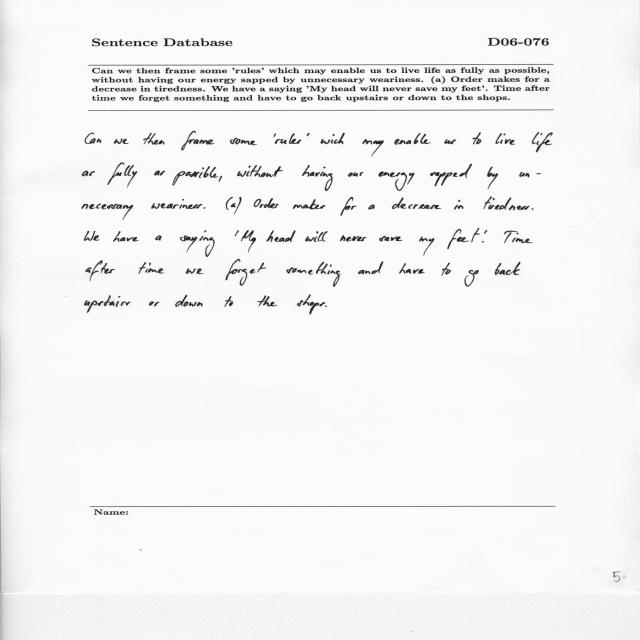word: (286, 262, 341, 287), (226, 259, 266, 286), (430, 164, 472, 187), (180, 230, 215, 257), (172, 166, 219, 186), (85, 295, 131, 313), (82, 204, 133, 220), (302, 165, 332, 191), (107, 163, 137, 188), (379, 171, 415, 191), (447, 228, 480, 249), (181, 131, 215, 151), (86, 261, 115, 282), (484, 197, 530, 210), (237, 165, 283, 177), (392, 198, 441, 209), (297, 295, 325, 314), (151, 199, 202, 209), (394, 133, 431, 145), (532, 132, 553, 153), (362, 139, 384, 157), (293, 199, 325, 210), (241, 230, 256, 253), (495, 262, 521, 275), (505, 231, 533, 243), (175, 295, 203, 307), (358, 262, 383, 275), (267, 231, 296, 242), (138, 262, 164, 274), (275, 134, 301, 145), (113, 231, 139, 242), (399, 263, 425, 274), (341, 197, 356, 216), (419, 237, 434, 256), (320, 133, 345, 144), (464, 270, 479, 287), (487, 167, 498, 190), (305, 231, 328, 242), (144, 133, 165, 145), (495, 133, 515, 145), (257, 296, 277, 307), (259, 198, 279, 208), (230, 138, 257, 145), (340, 235, 366, 242), (85, 133, 101, 144), (85, 231, 100, 241), (234, 197, 242, 215), (226, 197, 236, 210), (441, 263, 451, 276), (379, 236, 402, 241), (519, 172, 541, 177), (473, 133, 482, 145), (186, 269, 204, 275), (454, 200, 464, 210), (225, 296, 233, 307), (114, 139, 128, 145), (348, 172, 364, 177), (82, 171, 95, 176), (444, 140, 456, 145), (254, 199, 261, 207), (154, 171, 165, 176), (149, 302, 160, 307), (368, 205, 375, 210), (155, 236, 162, 241), (235, 231, 239, 237), (219, 176, 222, 182), (274, 134, 277, 138), (485, 230, 488, 234), (307, 133, 310, 136), (203, 207, 206, 209), (532, 208, 534, 210), (482, 241, 484, 243), (325, 305, 327, 307)
